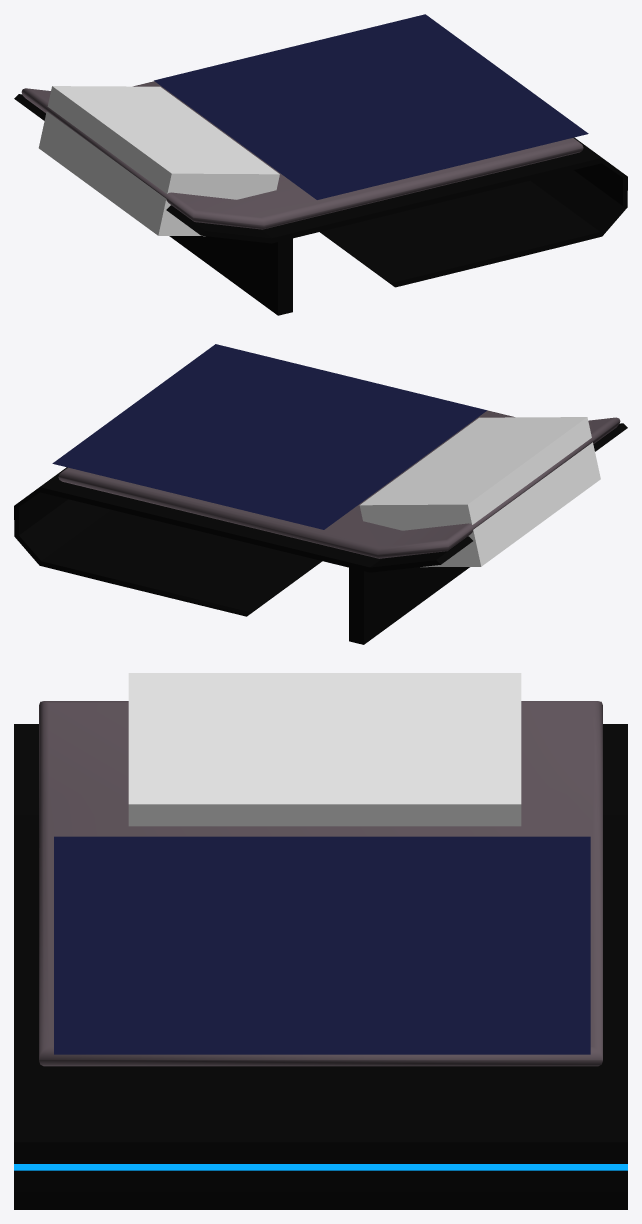
Rendered from Cama.fbx.
3 views of the same model, one above another, from view 1: azimuth 30°, elevation 25°; view 2: azimuth 150°, elevation 25°; view 3: azimuth 270°, elevation 25° (orthographic). The views are drawn at different scales.
Parts seen in each view (by area): view 1: Plano, Plane.005, Cubo, Plane.002; view 2: Plano, Plane.005, Cubo, Plane.002; view 3: Plano, Plane.005, Cubo, Plane.002.
Part boxes in pixels (x1,y1,x2,y2): Plano: (154,14,588,199); Plane.005: (14,94,627,315); Cubo: (38,86,279,236); Plane.002: (21,81,583,229); Plano: (52,344,486,529); Plane.005: (14,423,627,644); Cubo: (359,417,600,567); Plane.002: (58,410,620,558); Plano: (54,836,590,1054); Plane.005: (14,724,627,1209); Cubo: (128,673,521,826); Plane.002: (39,701,602,1066).
Size of the model in its own units: 185 by 54.5 by 137.
